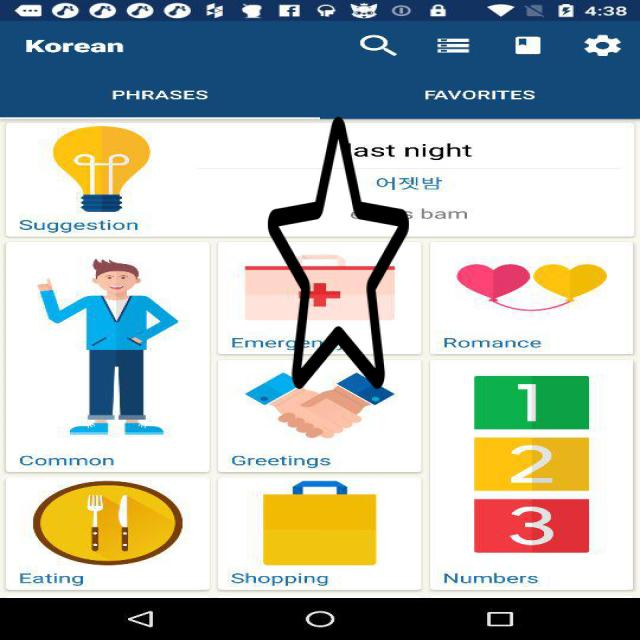forced continuity: (268, 110, 409, 394)
